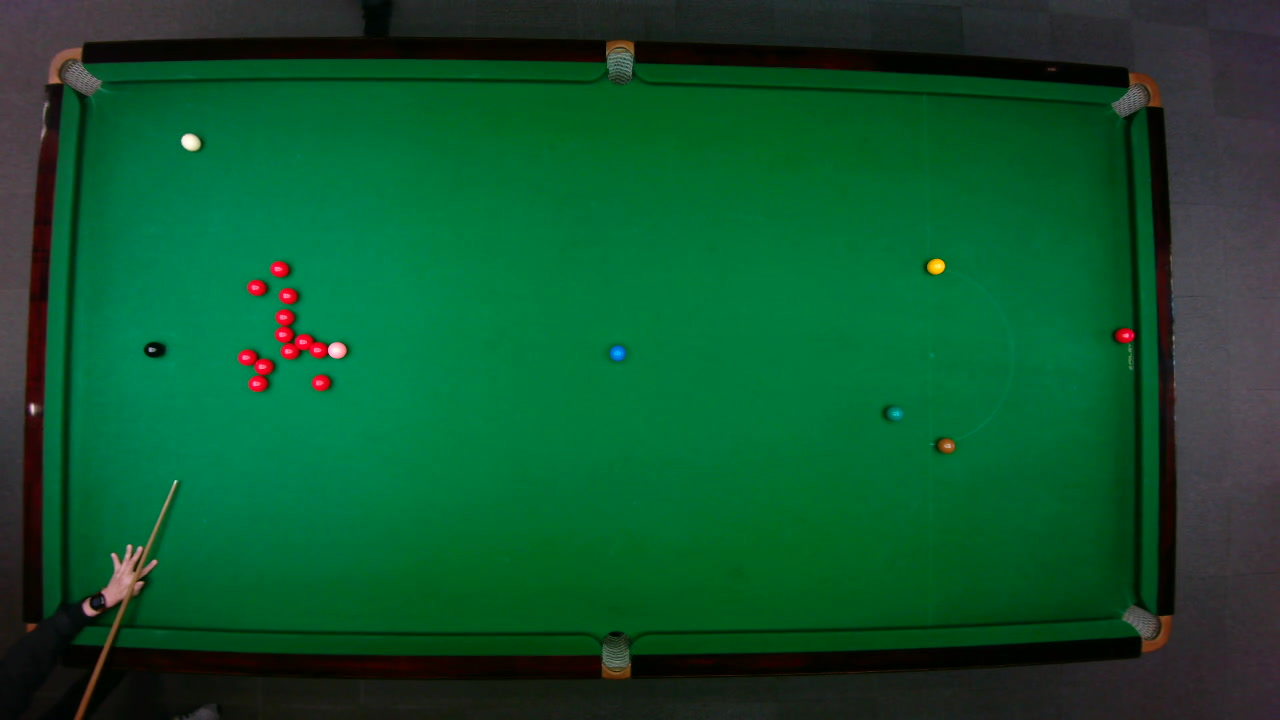bag: (46, 46, 102, 96), (1119, 603, 1171, 652), (1108, 71, 1161, 118), (600, 629, 630, 680), (605, 38, 633, 85)
black: (142, 340, 164, 357)
blue: (608, 343, 626, 361)
brown: (935, 436, 956, 453)
cue: (71, 477, 179, 719)
green: (883, 404, 904, 421)
pink: (326, 340, 347, 359)
red: (235, 347, 258, 366), (252, 356, 274, 375), (244, 278, 267, 296), (246, 374, 268, 392), (268, 259, 290, 277), (1112, 326, 1135, 343), (273, 307, 294, 325), (277, 286, 298, 304), (310, 373, 331, 391), (293, 332, 314, 350), (279, 342, 300, 359), (272, 325, 293, 342), (308, 340, 327, 358)
white: (179, 131, 202, 151)
yellow: (925, 257, 945, 274)
zone: (927, 266, 1013, 444)
